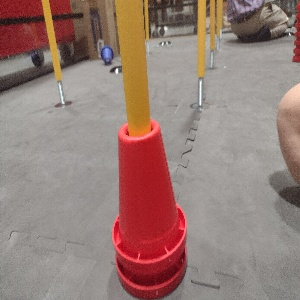Blue_1: (100, 44, 115, 65)
Red_2: (109, 115, 189, 298)
